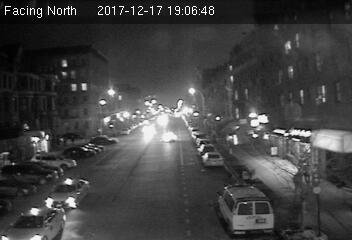car: (44, 177, 93, 209), (203, 152, 223, 167)
police: (215, 181, 276, 235)
